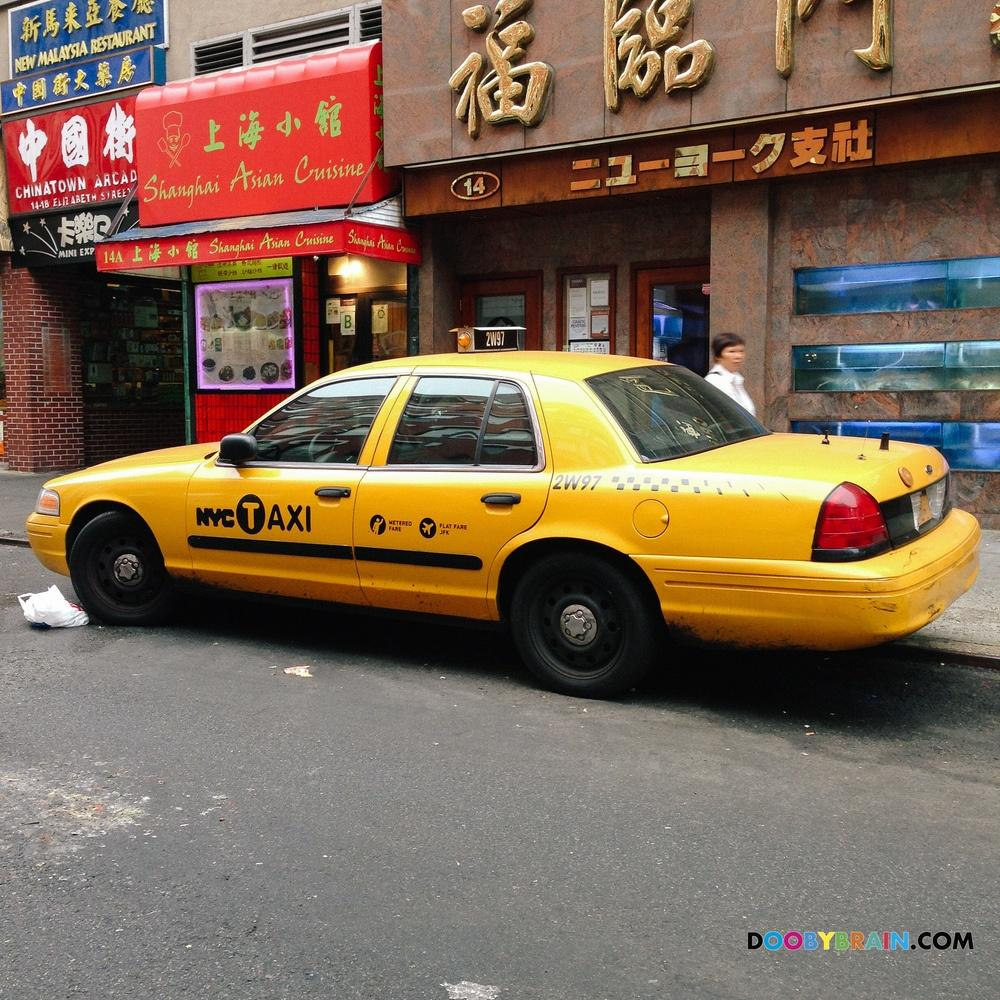taxi: (23, 318, 1000, 721)
